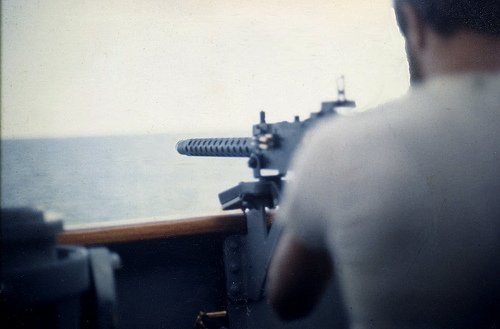rifle: (163, 95, 291, 186)
